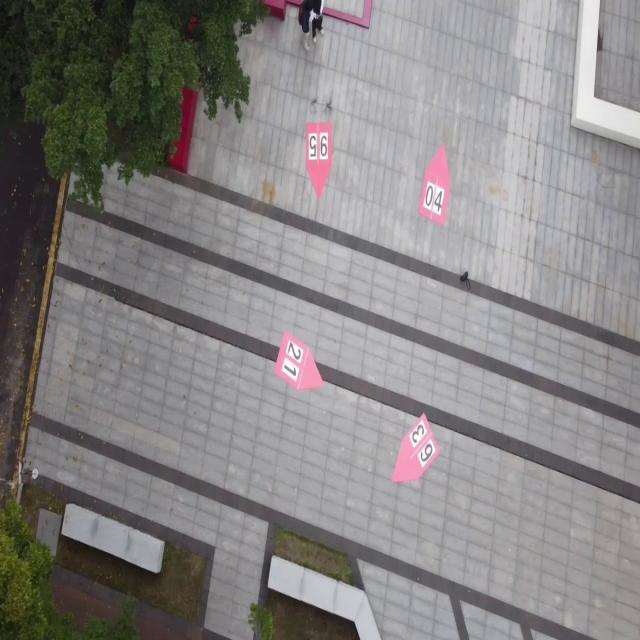-sign-: (392, 414, 442, 484), (273, 329, 323, 392), (418, 143, 452, 226), (305, 121, 332, 202)
